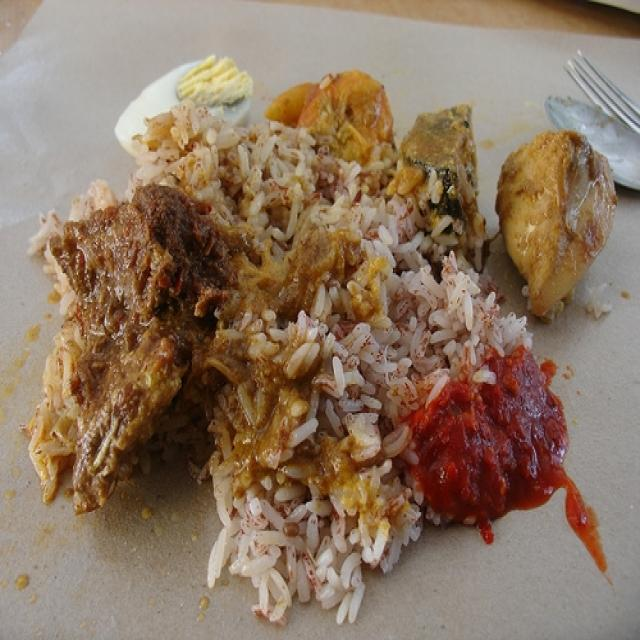米饭主食: (5, 5, 630, 632)
